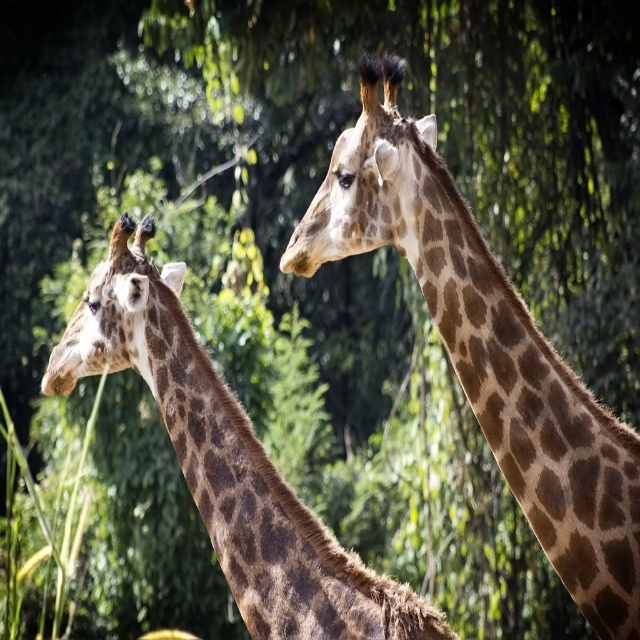Giraffe: (280, 53, 640, 639), (46, 205, 463, 639)
